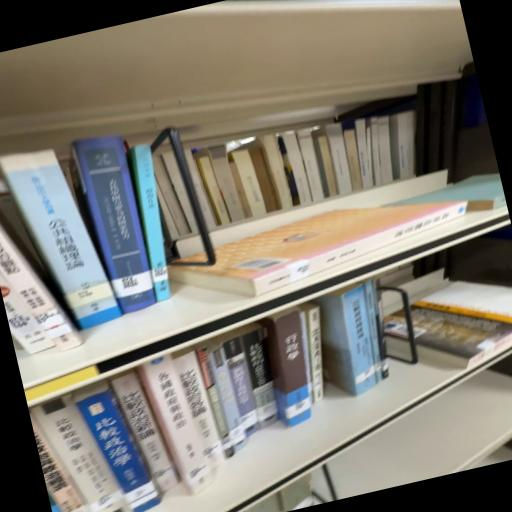flat: (170, 203, 468, 298), (385, 281, 512, 371)
